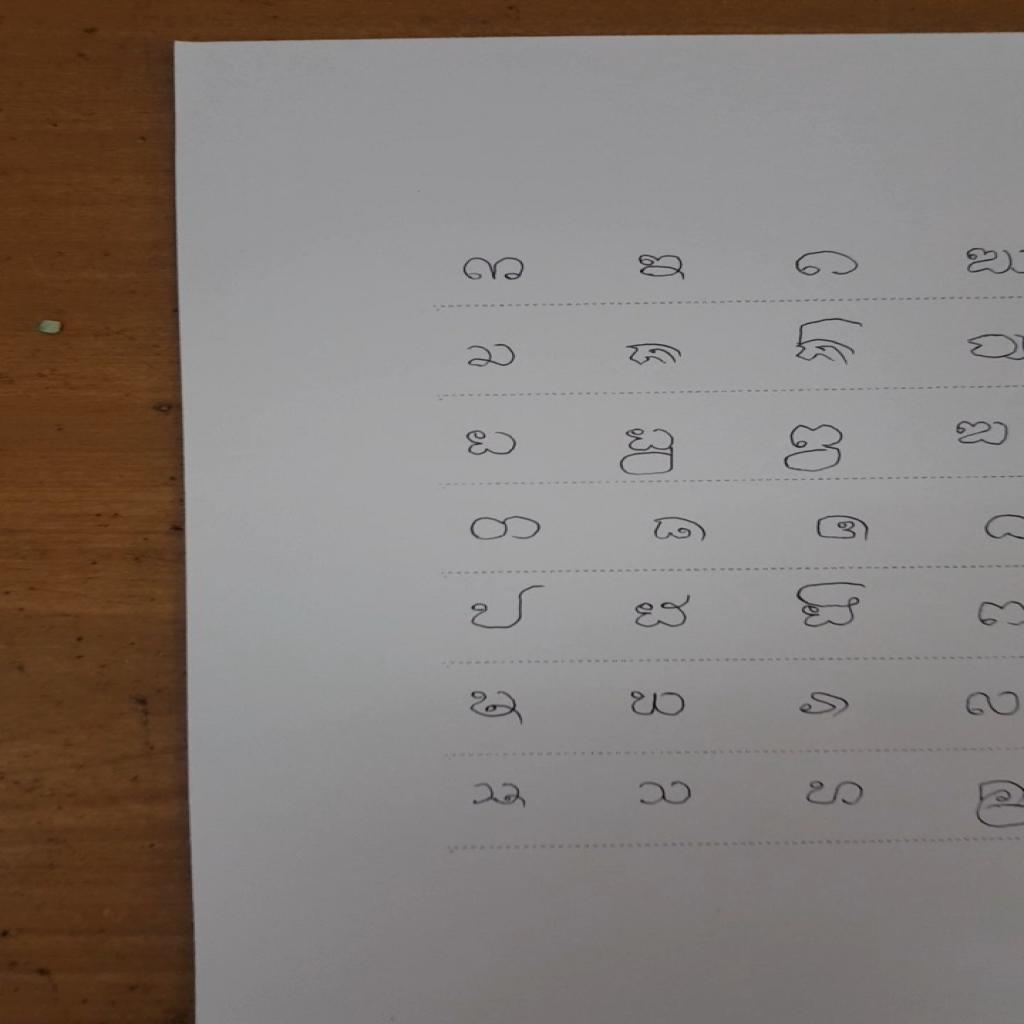LN001: (458, 253, 531, 286)
LN002: (634, 251, 692, 283)
LN003: (792, 248, 863, 281)
LN007: (462, 342, 521, 371)
LN008: (621, 340, 688, 371)
LN009: (789, 315, 870, 369)
LN013: (464, 429, 520, 460)
LN014: (614, 426, 681, 479)
LN015: (779, 421, 849, 476)
LN016: (952, 418, 1014, 450)
LN019: (467, 514, 545, 544)
LN020: (648, 515, 713, 546)
LN021: (810, 513, 875, 546)
LN025: (467, 581, 547, 634)
LN026: (629, 592, 696, 633)
LN027: (790, 580, 871, 632)
LN031: (466, 688, 527, 729)
LN032: (626, 690, 691, 721)
LN033: (794, 690, 856, 720)
LN037: (468, 782, 530, 813)
LN038: (633, 779, 698, 810)
LN039: (799, 778, 869, 810)
